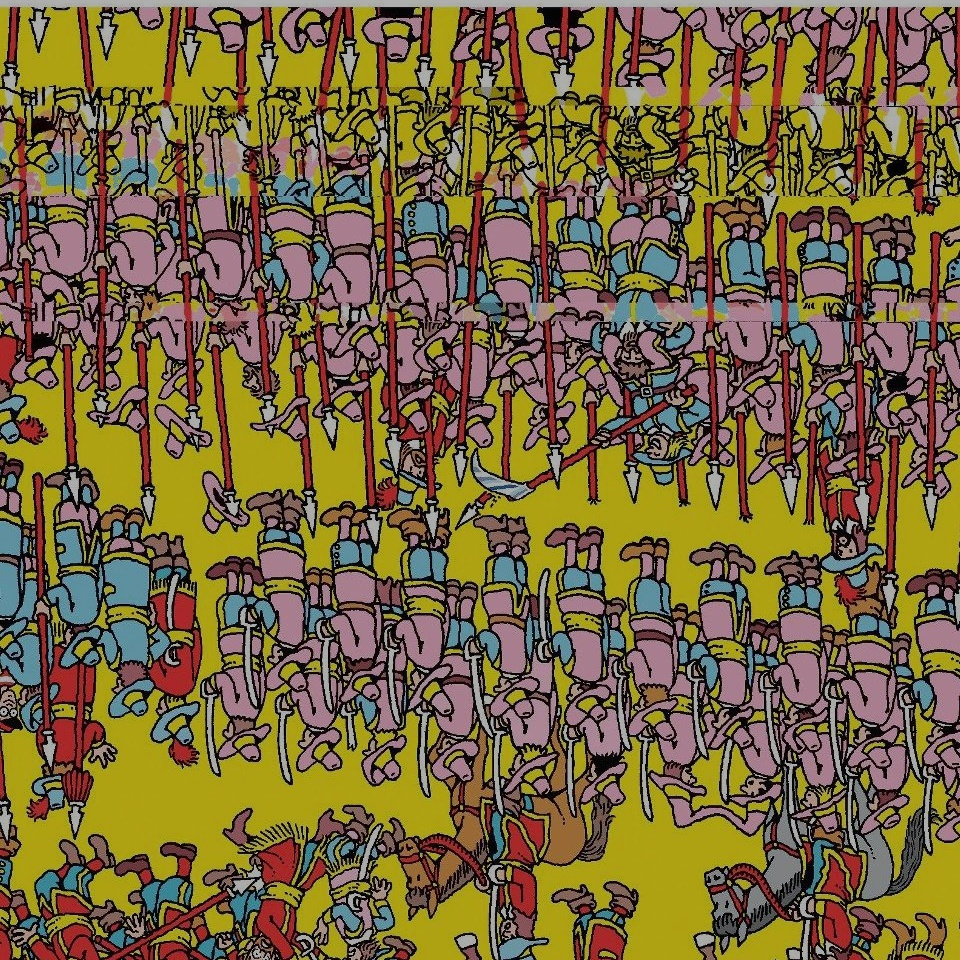waldo: (0, 674, 19, 736)
